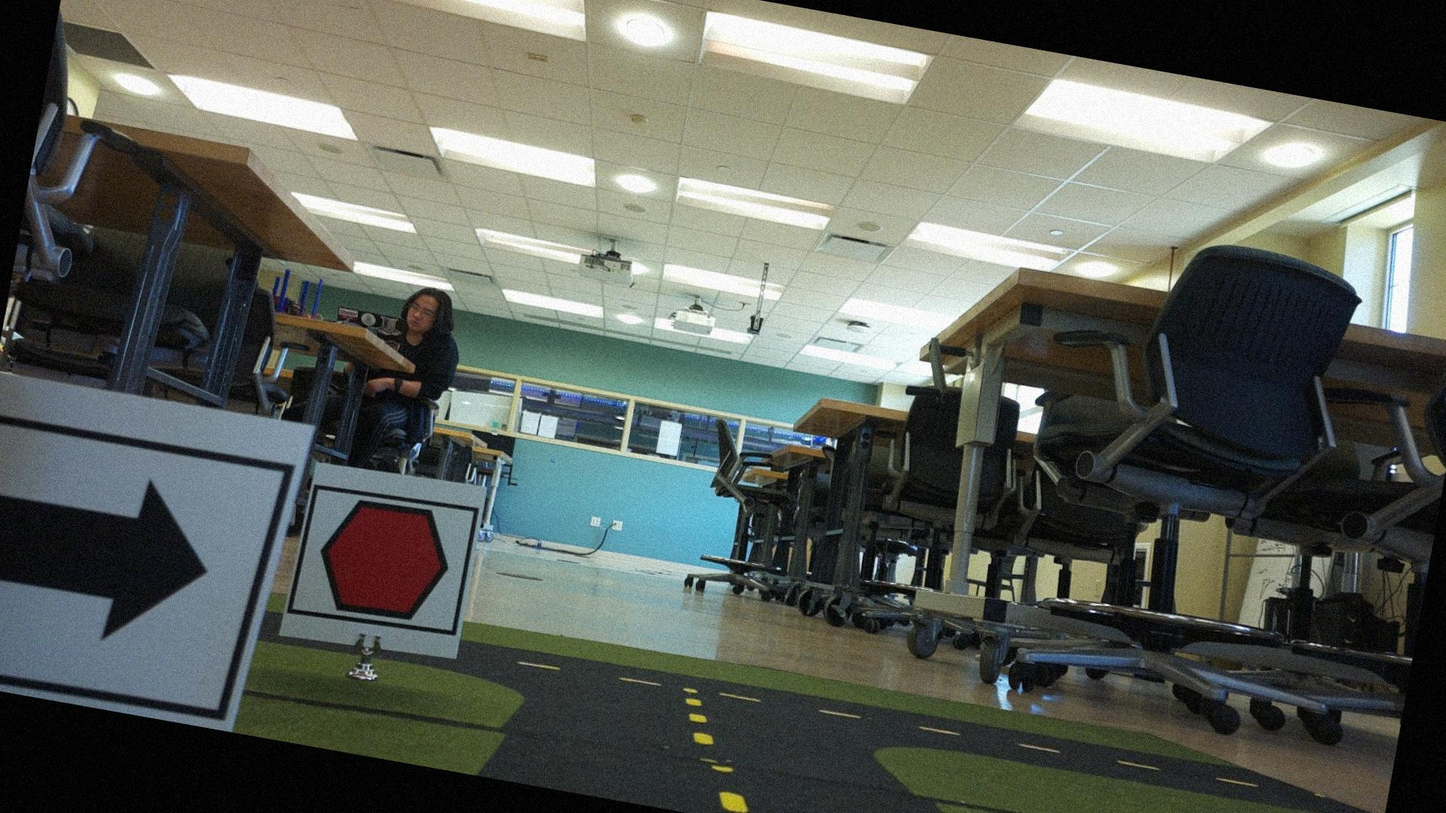stop: (294, 486, 477, 638)
turnright: (0, 417, 279, 718)
yellowline: (665, 694, 765, 812)
